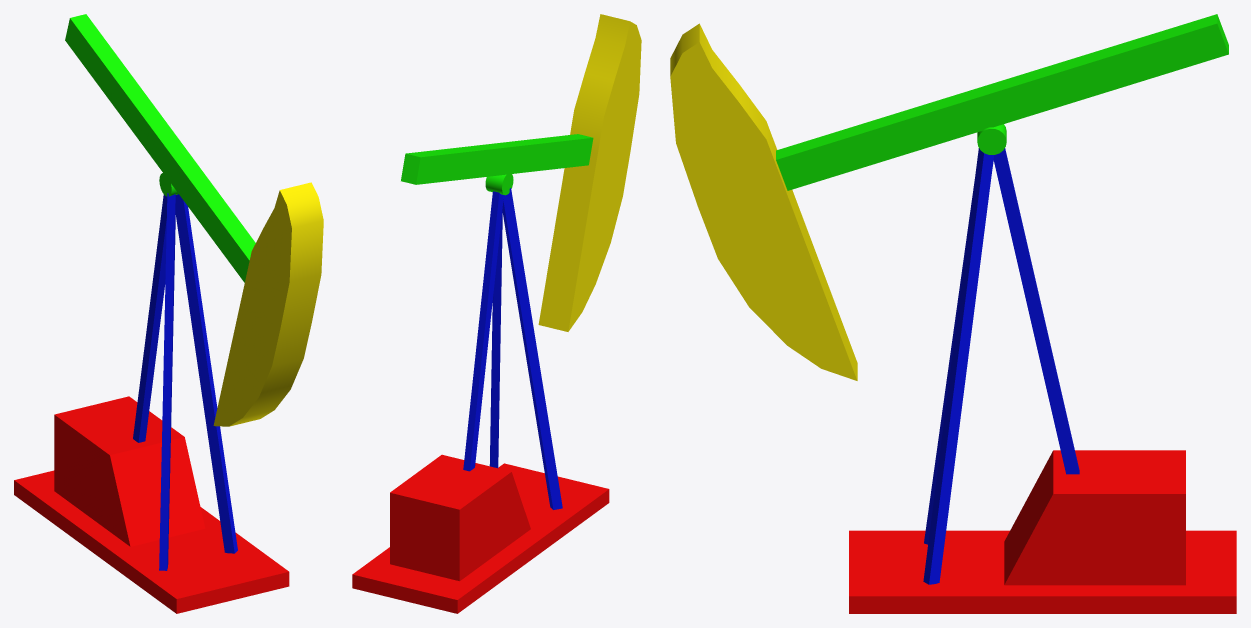
Rendered from oil pump lowpoly w animation.FBX.
3 views of the same model, side by side, from view 1: azimuth 30°, elevation 25°; view 2: azimuth 150°, elevation 25°; view 3: azimuth 270°, elevation 25° (orthographic). The views are drawn at different scales.
Visible parts, largest first — view 1: head, xiang, di, gan, zhu002, zhu001, zhu; view 2: head, xiang, di, gan, zhu001, zhu, zhu002, zhou; view 3: head, xiang, di, gan, zhu002, zhu, zhu001, zhou.
Part boxes in pixels (bbox=[...]): head: bbox=[213, 182, 323, 426]; xiang: bbox=[54, 396, 205, 546]; di: bbox=[14, 470, 289, 613]; gan: bbox=[65, 14, 255, 282]; zhu002: bbox=[175, 194, 237, 553]; zhu001: bbox=[159, 193, 175, 570]; zhu: bbox=[133, 194, 167, 442]; head: bbox=[538, 14, 641, 331]; xiang: bbox=[390, 454, 530, 581]; di: bbox=[352, 463, 609, 613]; gan: bbox=[401, 134, 593, 184]; zhu001: bbox=[502, 188, 562, 509]; zhu: bbox=[463, 191, 503, 471]; zhu002: bbox=[489, 211, 502, 468]; zhou: bbox=[485, 174, 513, 195]; head: bbox=[670, 23, 857, 380]; xiang: bbox=[1004, 450, 1185, 585]; di: bbox=[849, 530, 1236, 613]; gan: bbox=[776, 14, 1228, 190]; zhu002: bbox=[923, 148, 994, 584]; zhu: bbox=[993, 148, 1079, 474]; zhu001: bbox=[924, 161, 993, 544]; zhou: bbox=[977, 124, 1006, 154].
Size of the model in its own units: 100 by 401 by 366.
